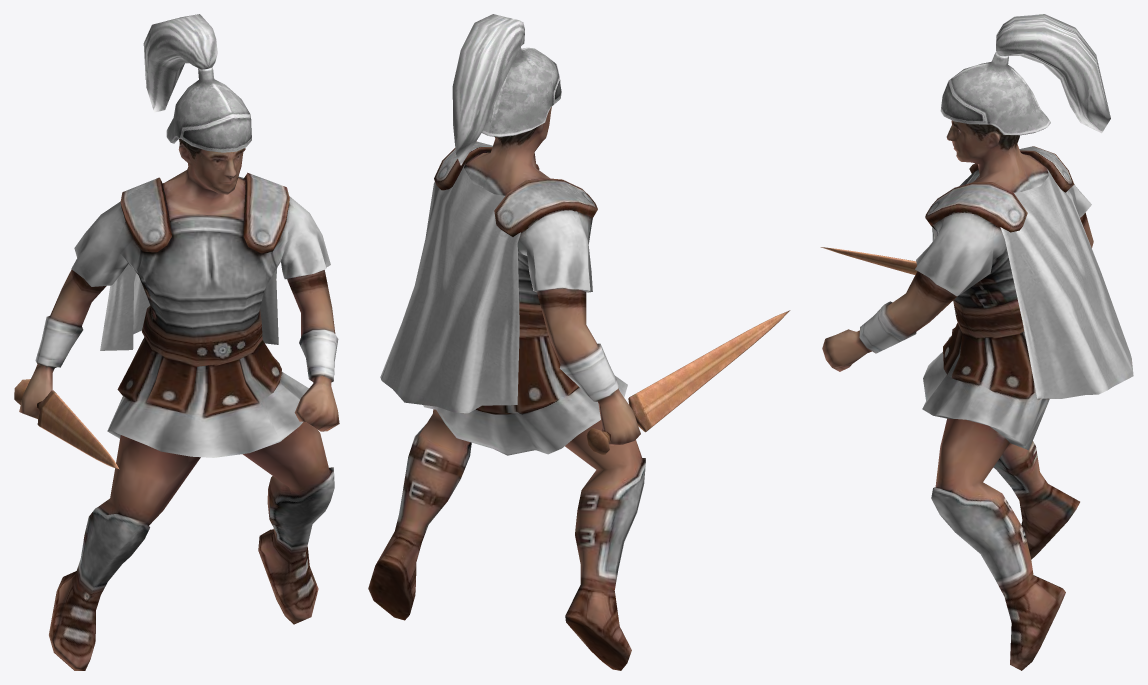
Rendered from rider-mediumcavalry.glb.
3 renders of one model, left to right at view 1: azimuth 30°, elevation 25°; view 2: azimuth 150°, elevation 25°; view 3: azimuth 270°, elevation 25°, orthographic. The views are drawn at different scales.
Size of the model in its own units: 1.18 by 2.3 by 1.09.
Materials: 3 (3 with a texture image).
